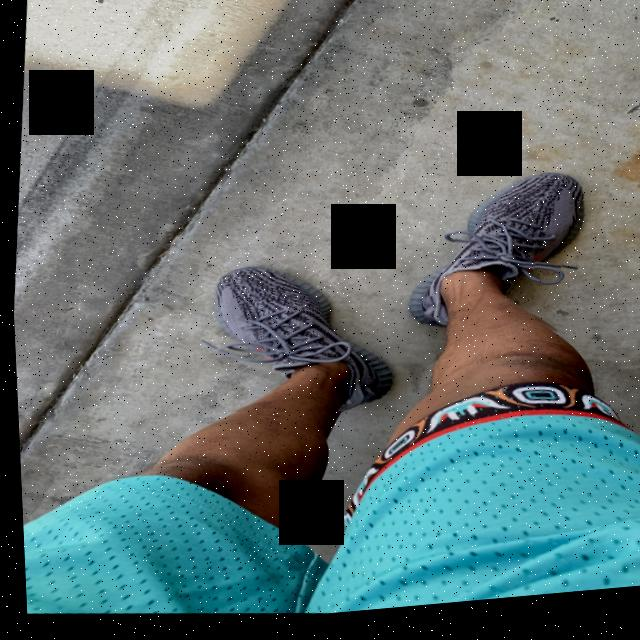shoe: (374, 164, 613, 362), (188, 247, 416, 433)
